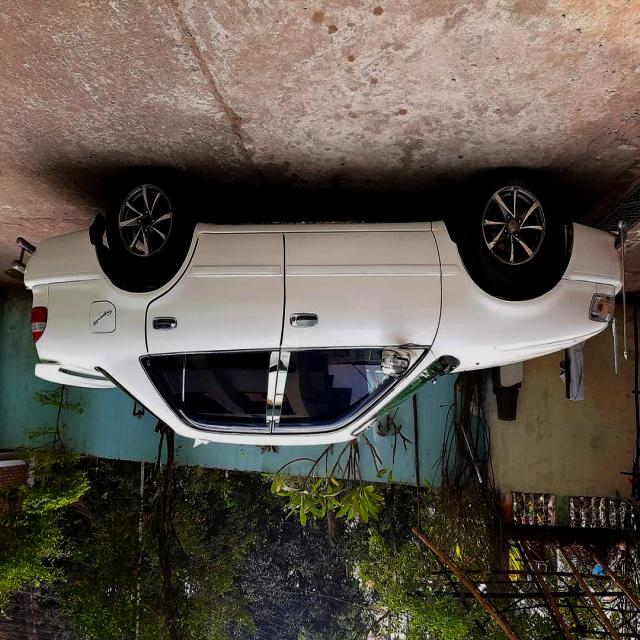white: (0, 190, 636, 461)
